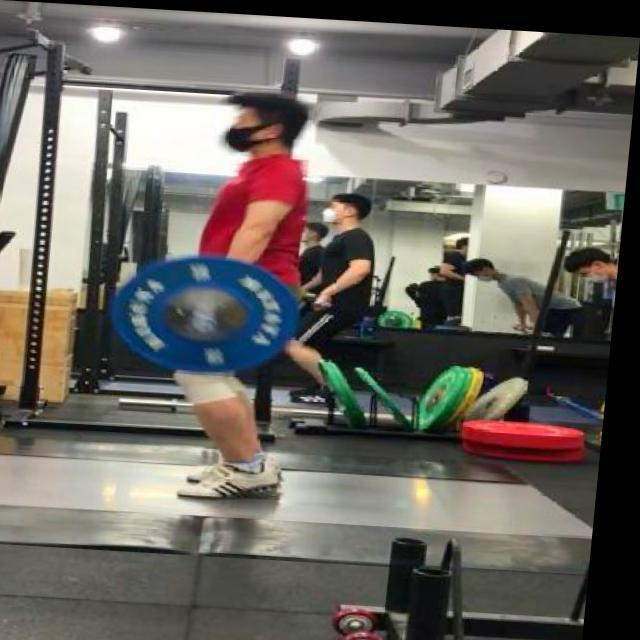barbell: (111, 242, 314, 388)
